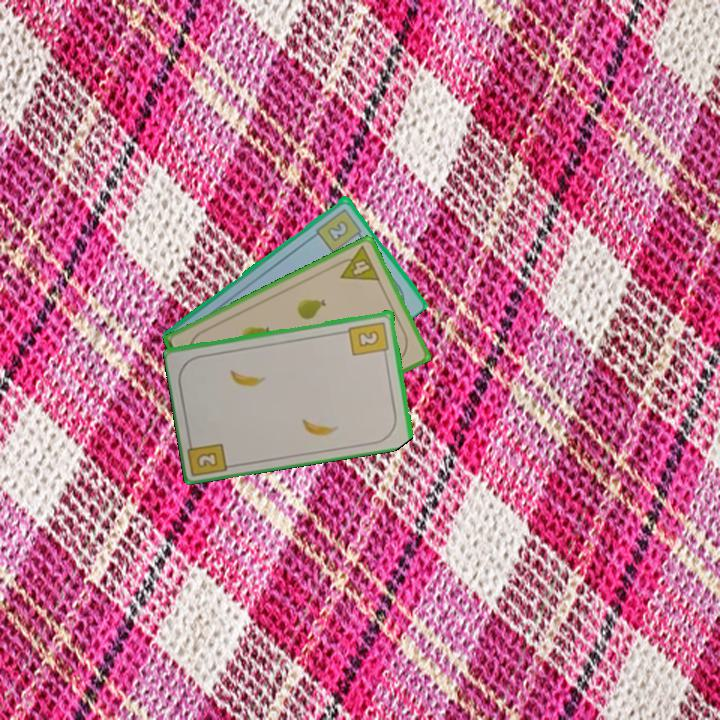2b: (313, 204, 367, 255), (185, 434, 232, 477), (346, 318, 392, 360)
4p: (331, 242, 383, 284)
